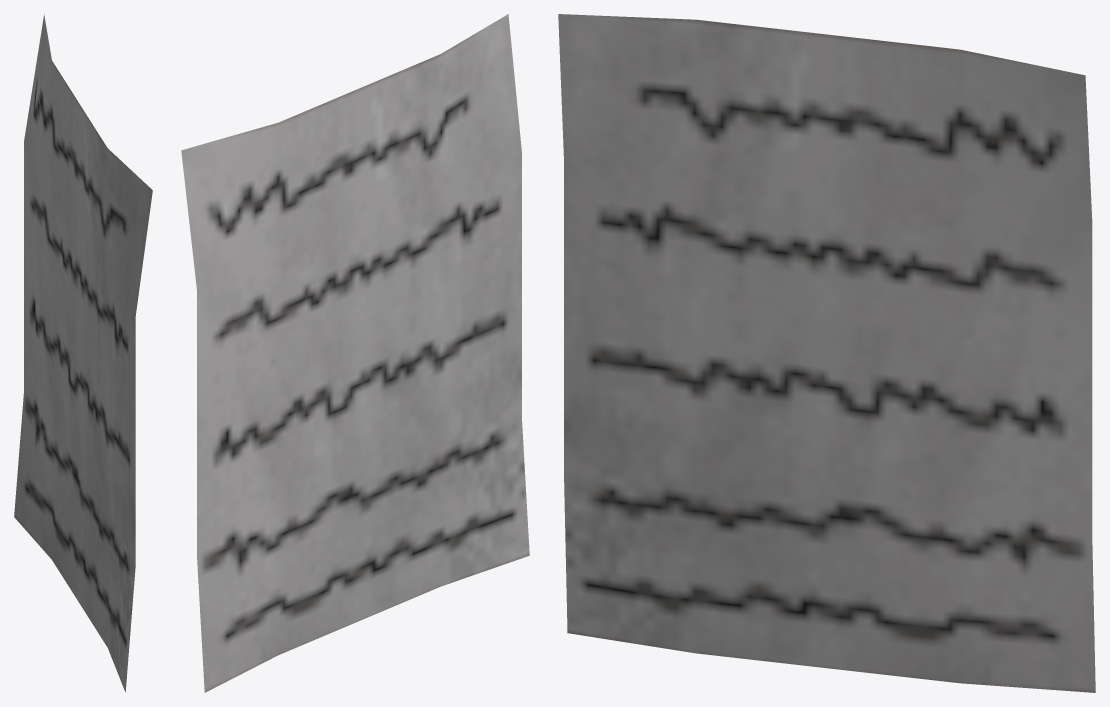
Rendered from Note.fbx.
3 views of the same model, side by side, from view 1: azimuth 30°, elevation 25°; view 2: azimuth 150°, elevation 25°; view 3: azimuth 270°, elevation 25° (orthographic). The views are drawn at different scales.
Visible parts, largest first — view 1: pPlane1; view 2: pPlane1; view 3: pPlane1.
Boxes of the visible parts, x1,y1,x2,y2 form: pPlane1: [14, 14, 152, 692]; pPlane1: [181, 14, 529, 692]; pPlane1: [558, 14, 1095, 692].
Bounding box in the file's own units: 0.0489 × 0.1463 × 0.1903.
Materials: 1 (1 with a texture image).
